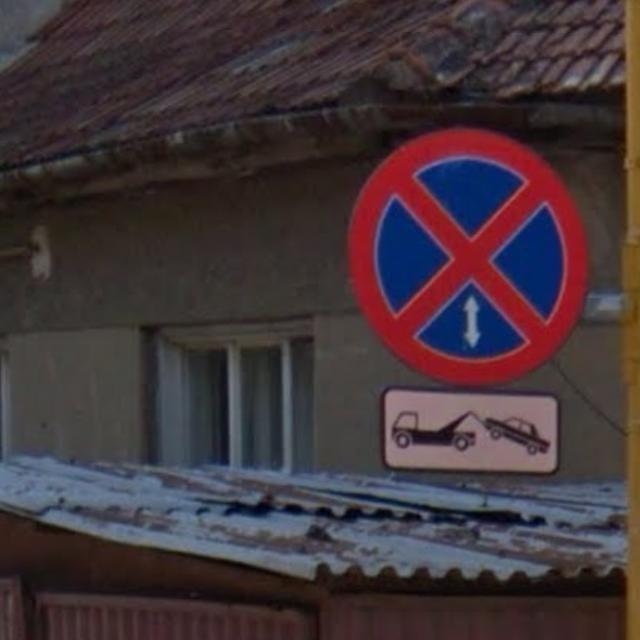forb_waiting: (348, 126, 586, 388)
